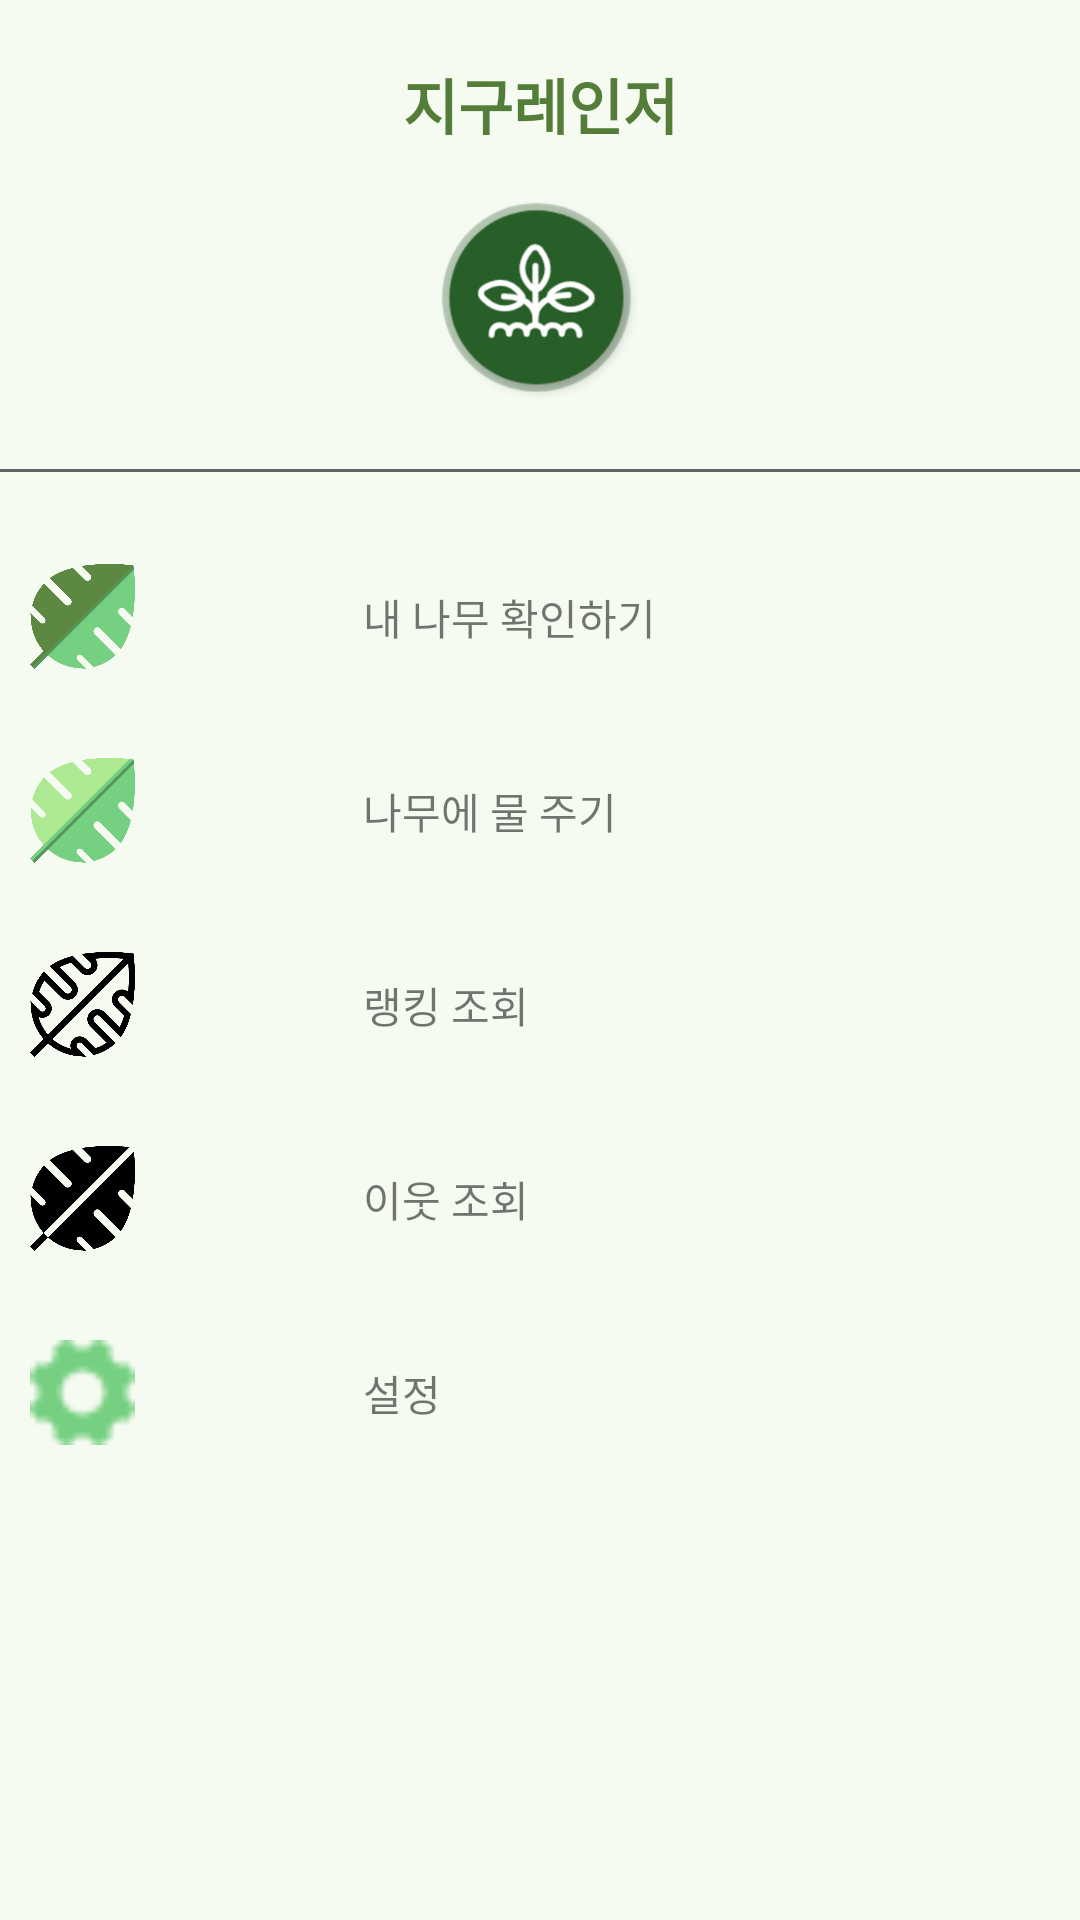

Named icons in this screenshot (1080w x 1920h) and their centers, (x=x, y=y):
leaf: (x=82, y=616), (x=82, y=810), (x=82, y=1004), (x=82, y=1198)
setting: (x=82, y=1392)
